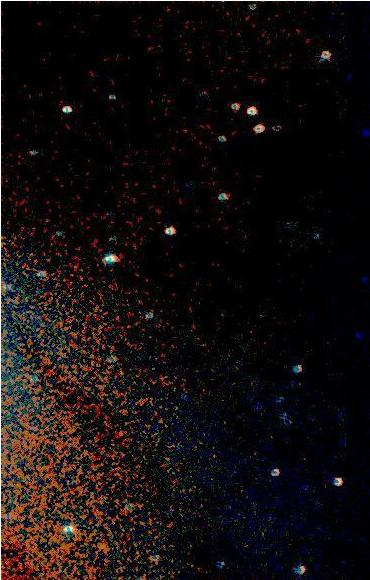star: (87, 532, 117, 562)
